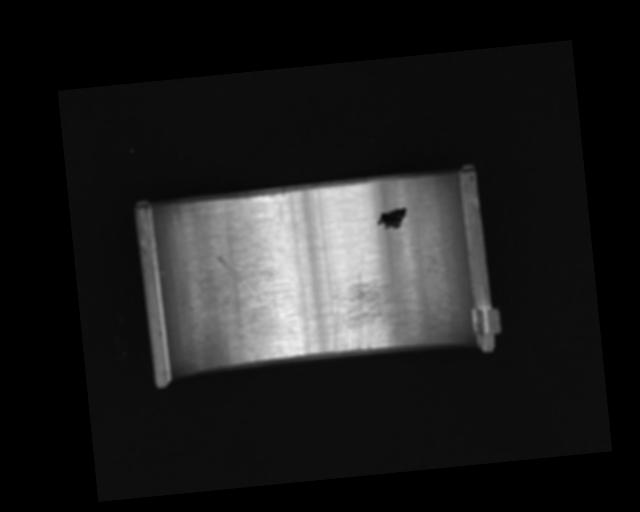blot: (374, 206, 409, 231)
nick: (215, 252, 258, 305)
scratch: (327, 267, 438, 356)
